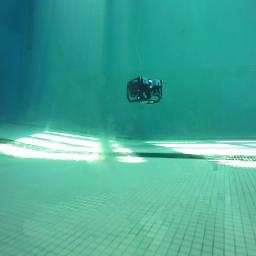front: (126, 76, 164, 104)
